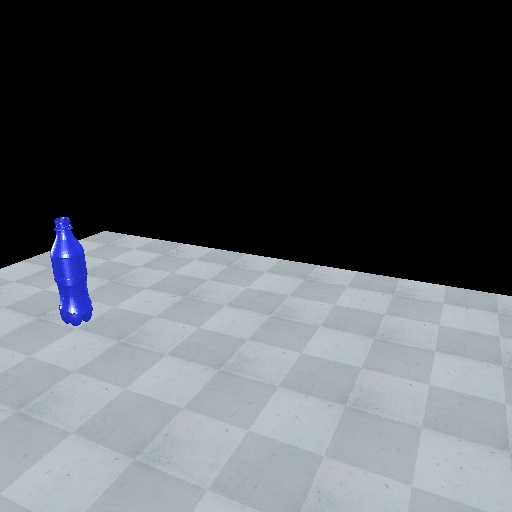bottle: (46, 215, 96, 328)
